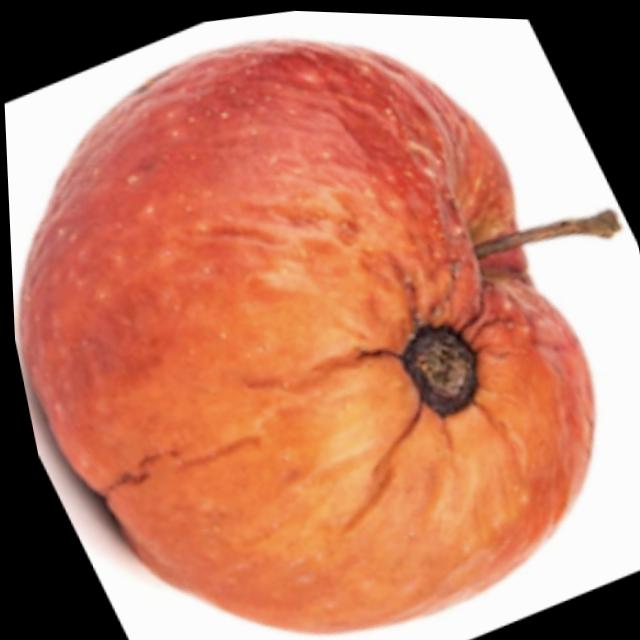organik: (0, 0, 634, 640)
